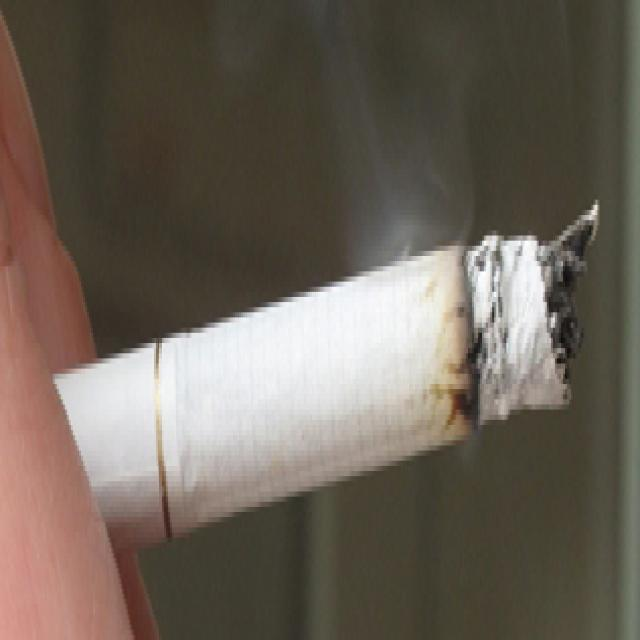smoking: (47, 237, 594, 544)
